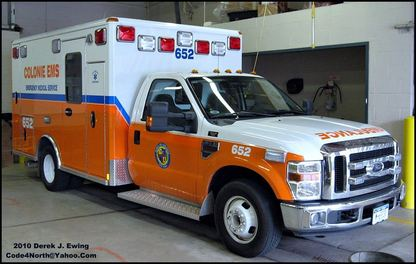ambulance: (11, 10, 406, 258)
